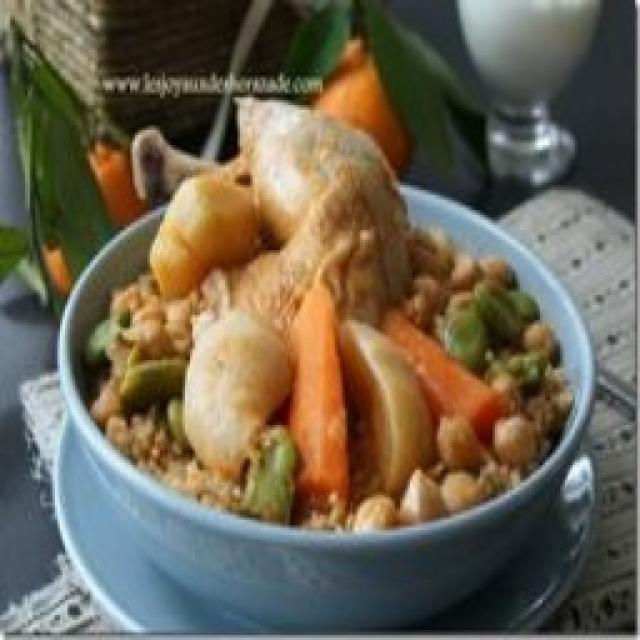Couscous: (89, 100, 570, 531)
